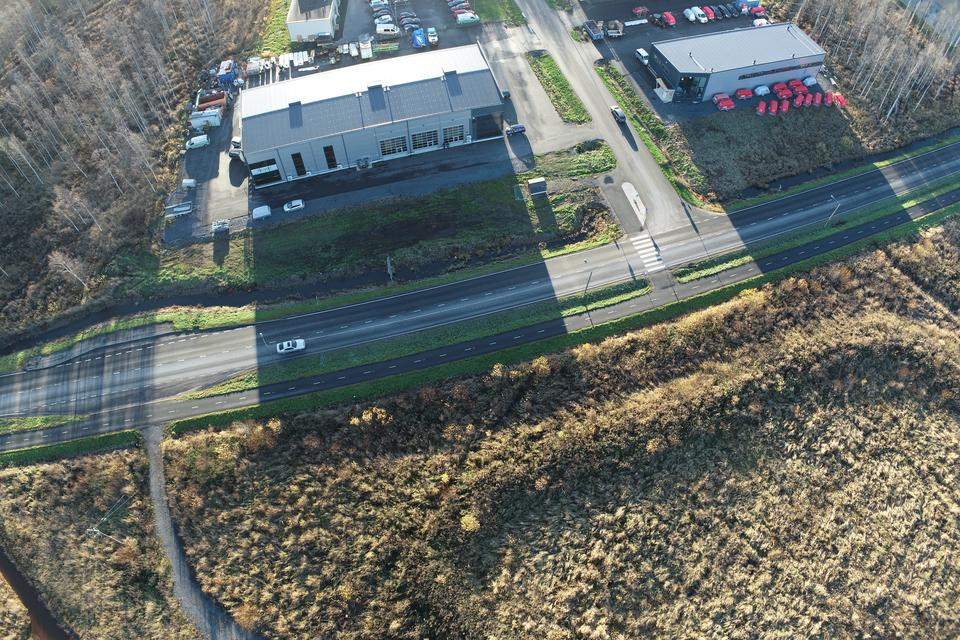intersection: (591, 186, 743, 352), (122, 310, 189, 475)
